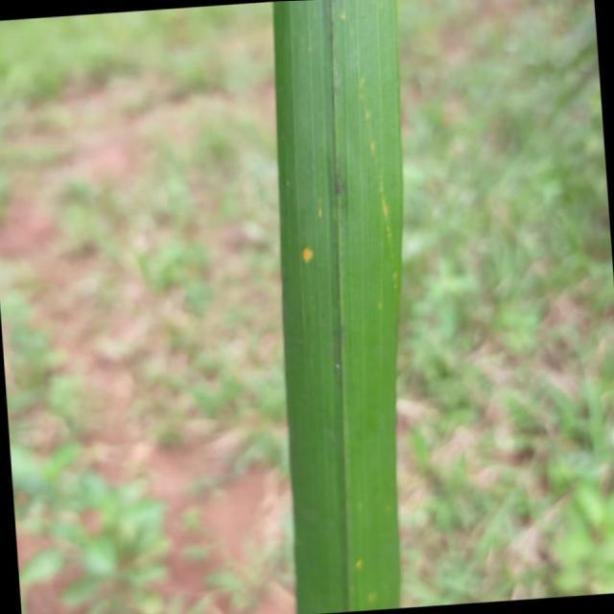Kalium: (272, 1, 403, 614)
